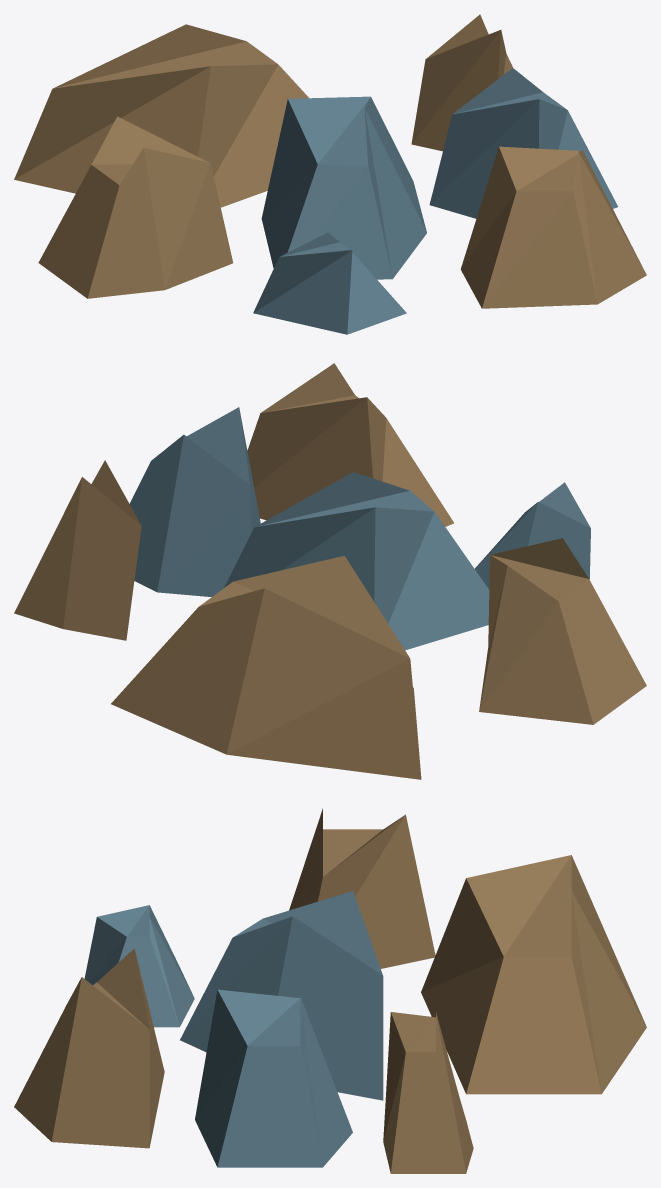
File: runite_ore.gltf
3 renders of one model, top to bottom at view 1: azimuth 30°, elevation 25°; view 2: azimuth 150°, elevation 25°; view 3: azimuth 270°, elevation 25°, orthographic. The views are drawn at different scales.
Bounding box in the file's own units: 83 × 20 × 84.
Materials: 1 (1 with a texture image).
